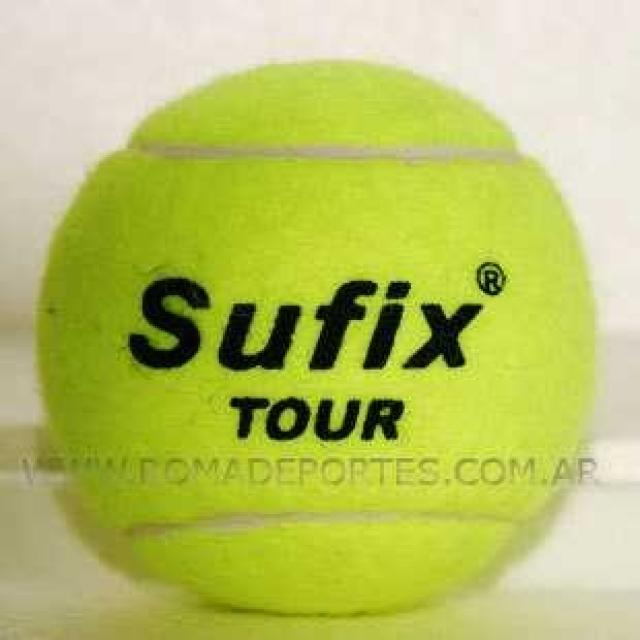Tennis_Ball: (36, 59, 592, 619)
